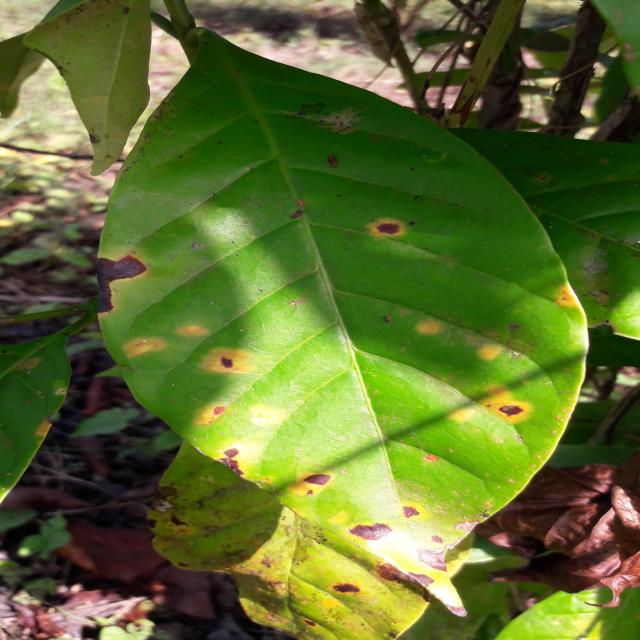Enfermedad-Roya: (96, 28, 585, 610)
